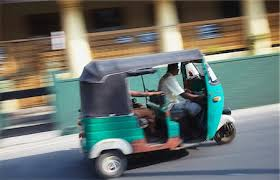tuk tuk: (74, 48, 240, 177)
